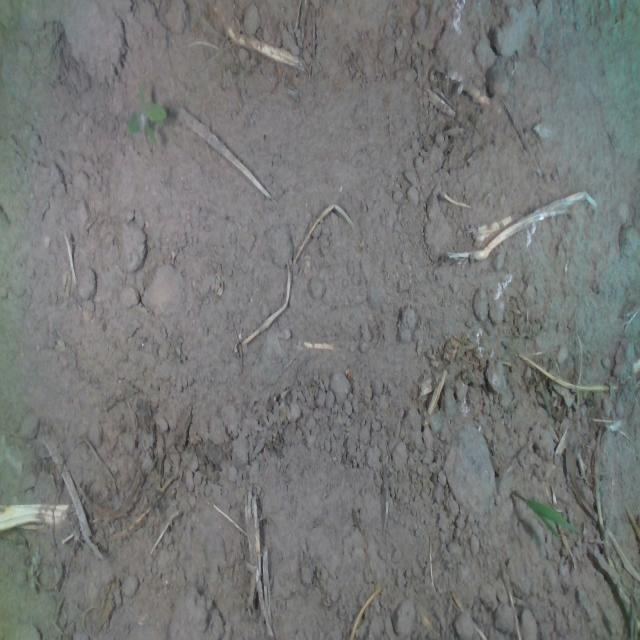weed: (126, 78, 168, 152)
